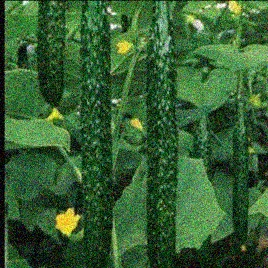cucumber: (79, 8, 111, 261), (148, 12, 173, 264), (35, 1, 64, 102), (232, 118, 252, 244)
cucumber_plant: (9, 156, 75, 235)
